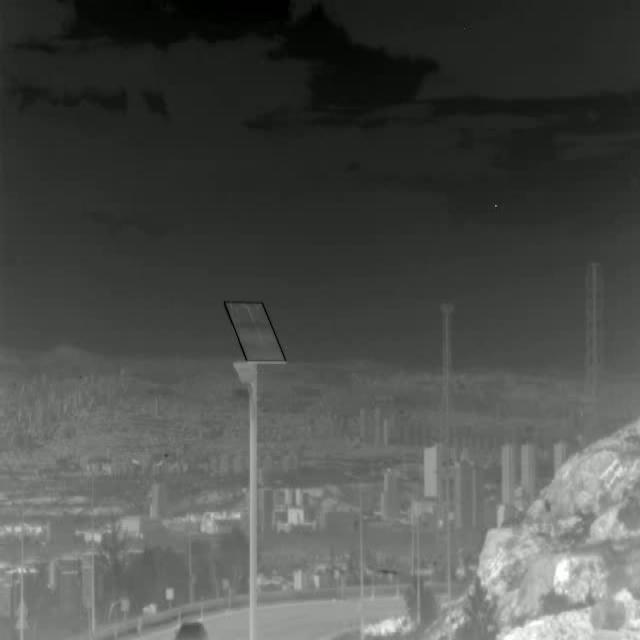Car: (175, 620, 208, 640)
